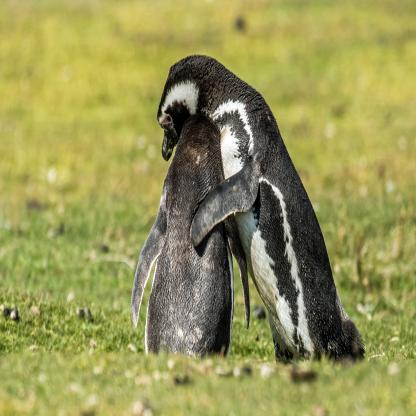Penguin: (146, 46, 393, 372), (122, 98, 273, 377)
